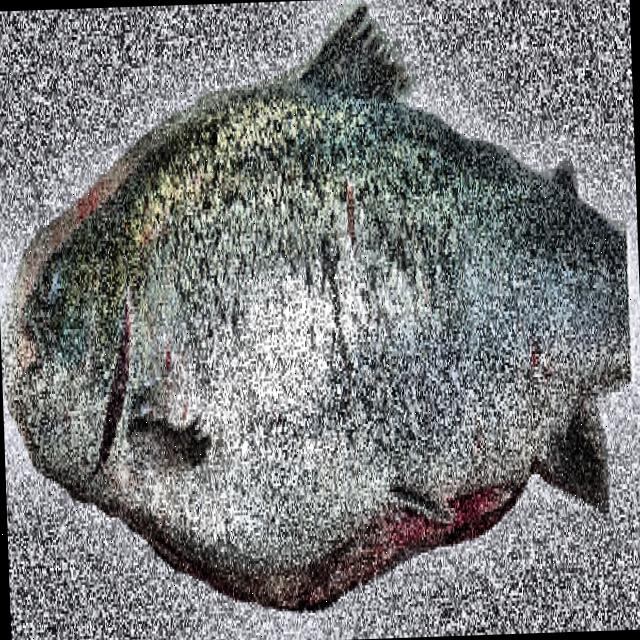wound: (294, 474, 528, 608), (151, 531, 250, 597)
